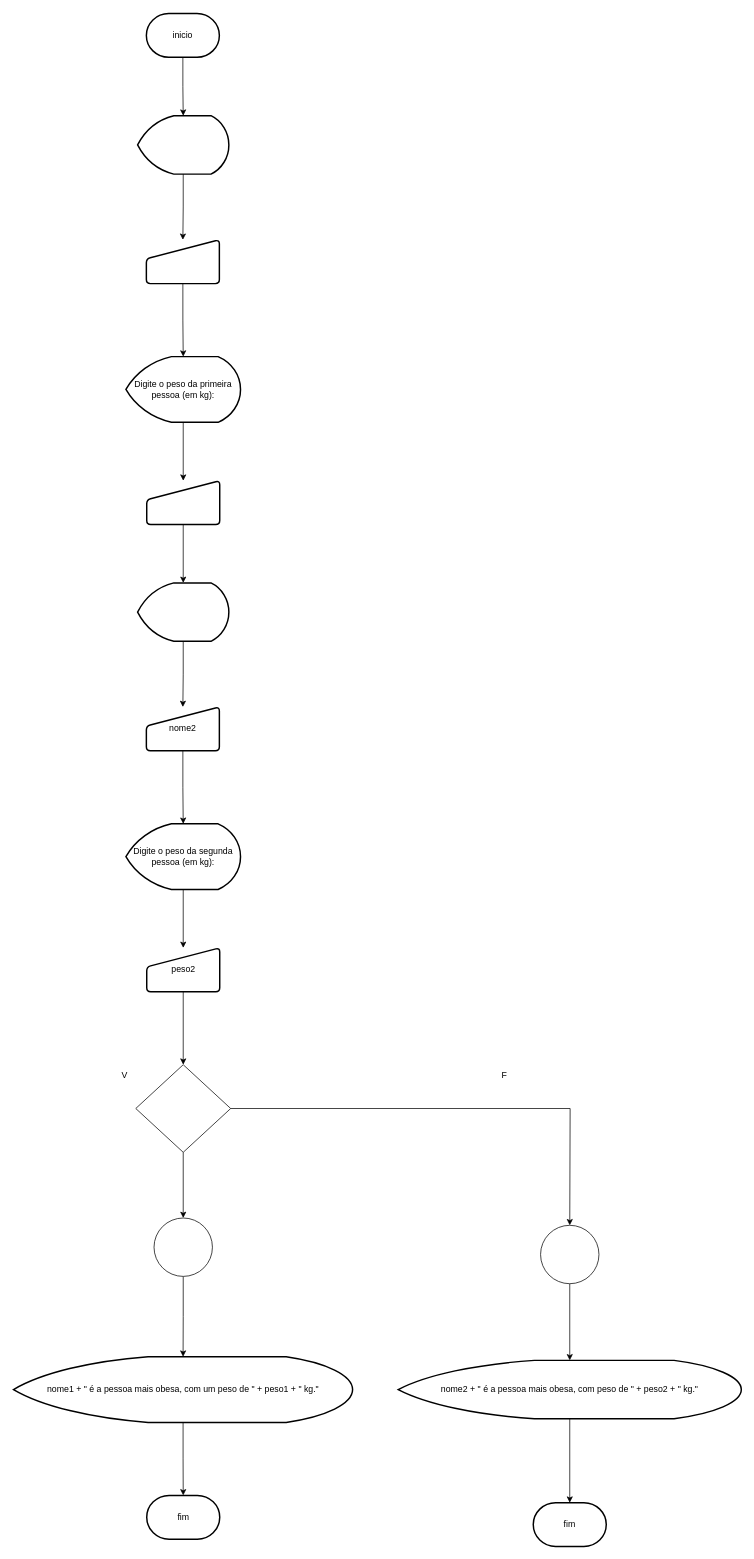
This 754x1559 diagram has some shape labels left out. The shapes that lost their labels are listed below. From the top down, each one's box as (x1, y1, x2, y2) in pixels, then its label:
(137, 115, 229, 174): Digite o nome da primeira pessoa:
(145, 239, 220, 284): nome1
(146, 480, 220, 525): peso1
(137, 582, 229, 642): Digite o nome da segunda pessoa:
(135, 1064, 231, 1152): peso1 > peso2
